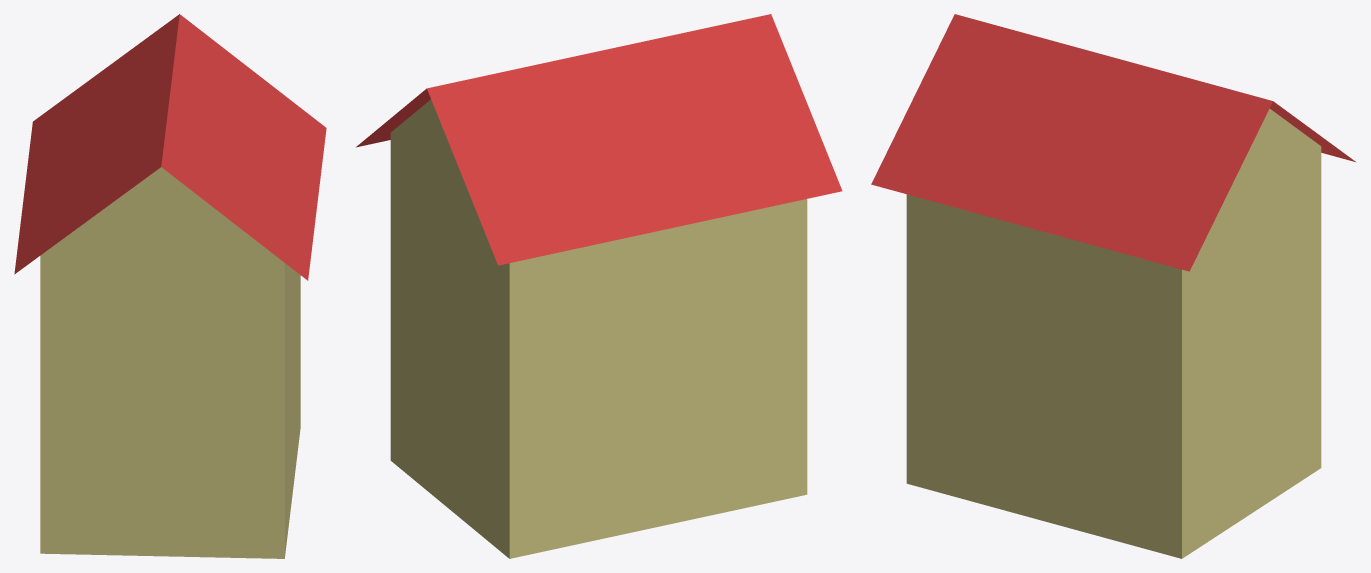
The picture shows the model from 3 angles, left to right: view 1: azimuth 30°, elevation 25°; view 2: azimuth 150°, elevation 25°; view 3: azimuth 270°, elevation 25°; orthographic projection. The views are drawn at different scales.
Visible parts, largest first — view 1: group_5, group_3, group_4; view 2: group_5, group_3, group_4; view 3: group_5, group_3, group_4.
Boxes of the visible parts, x1,y1,x2,y2 form: group_5: (40,167,300,558); group_3: (14,14,300,274); group_4: (14,14,326,280); group_5: (390,99,807,558); group_3: (356,14,842,265); group_4: (427,89,840,265); group_5: (906,31,1321,558); group_3: (887,20,1355,270); group_4: (871,14,1276,271).
Bounding box in the file's own units: 13.54 × 14.16 × 13.46.
